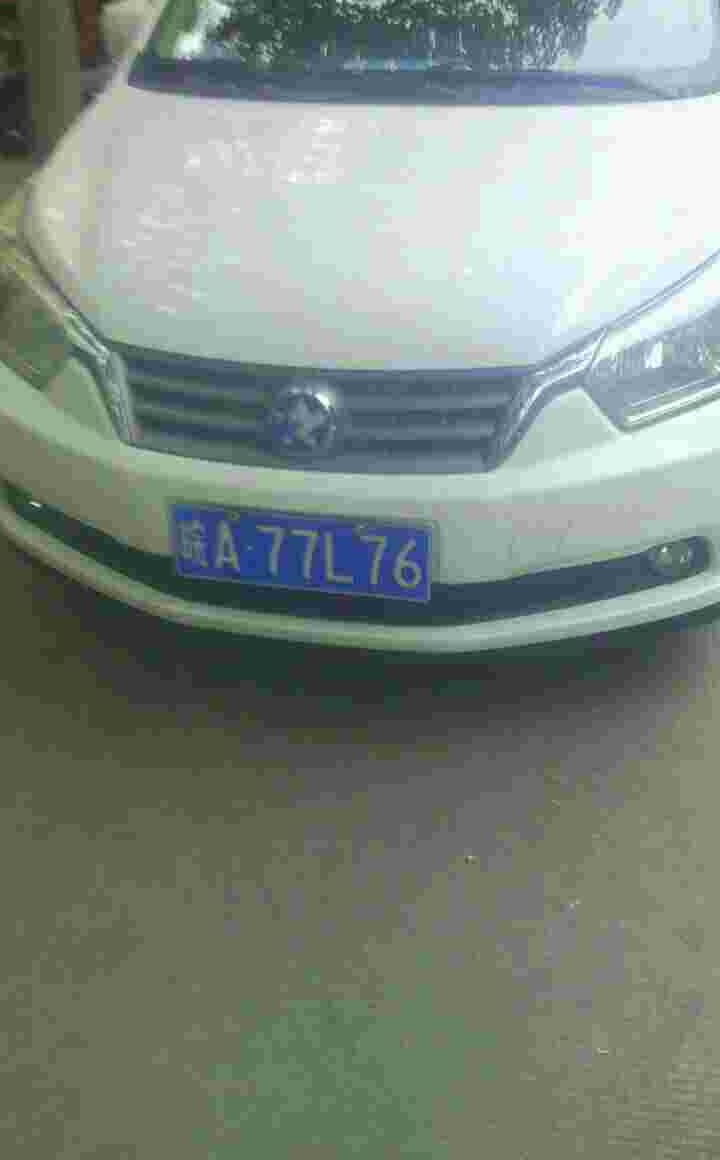license_plate: (170, 504, 445, 610)
